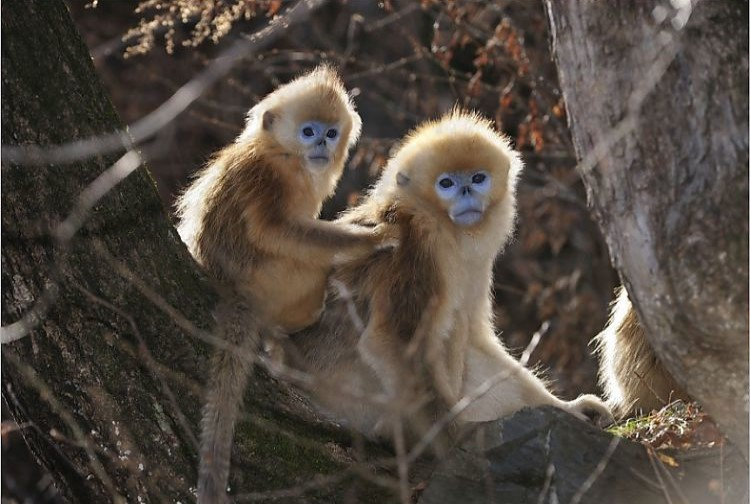GoldenSnub-Nosed: (343, 119, 537, 420), (191, 65, 378, 307)
